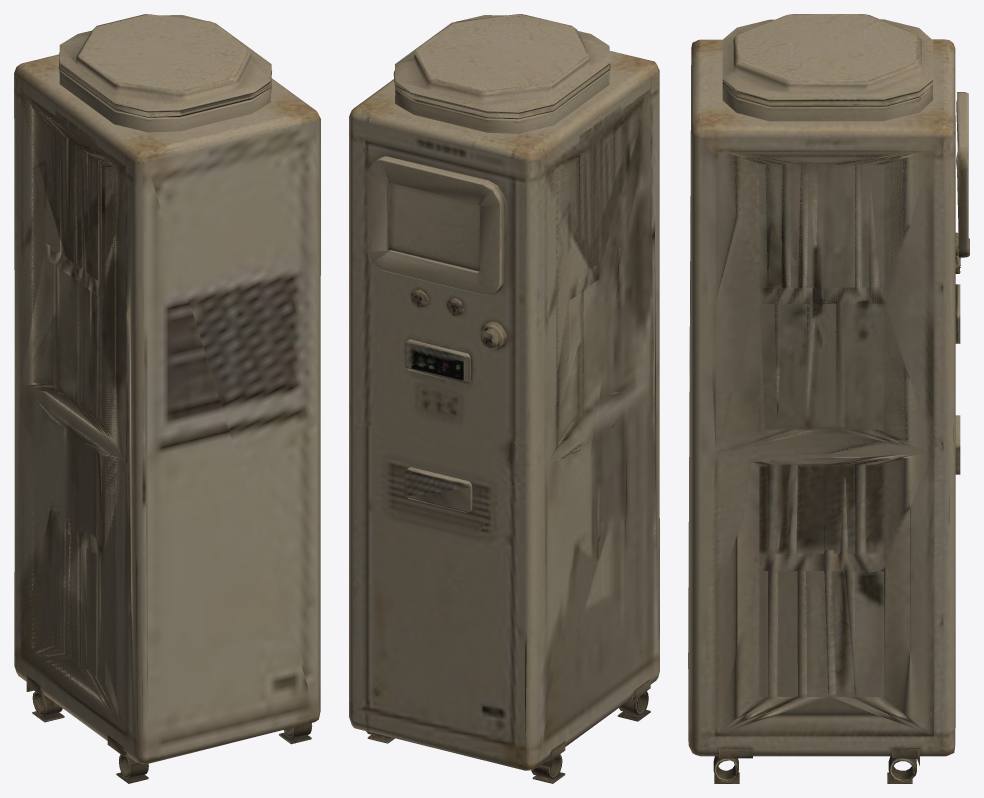
File: office-crac-unit.glb
The picture shows the model from 3 angles, left to right: view 1: azimuth 30°, elevation 25°; view 2: azimuth 150°, elevation 25°; view 3: azimuth 270°, elevation 25°; orthographic projection. The views are drawn at different scales.
Visible parts, largest first — view 1: crac-unit; view 2: crac-unit; view 3: crac-unit.
Boxes of the visible parts, x1,y1,x2,y2 form: crac-unit: (14, 14, 320, 783); crac-unit: (349, 14, 659, 783); crac-unit: (688, 14, 969, 783).
Bounding box in the file's own units: 0.5647 × 1.9 × 0.7032.
Materials: 1 (1 with a texture image).
